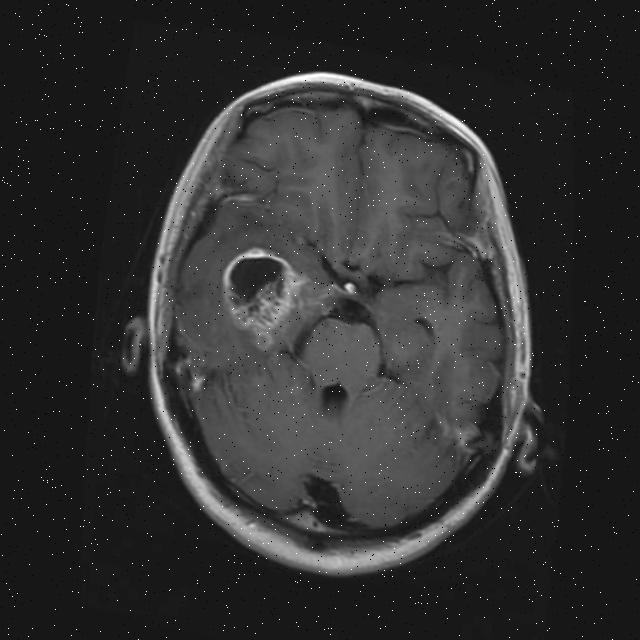Glioma: (214, 240, 315, 359)
